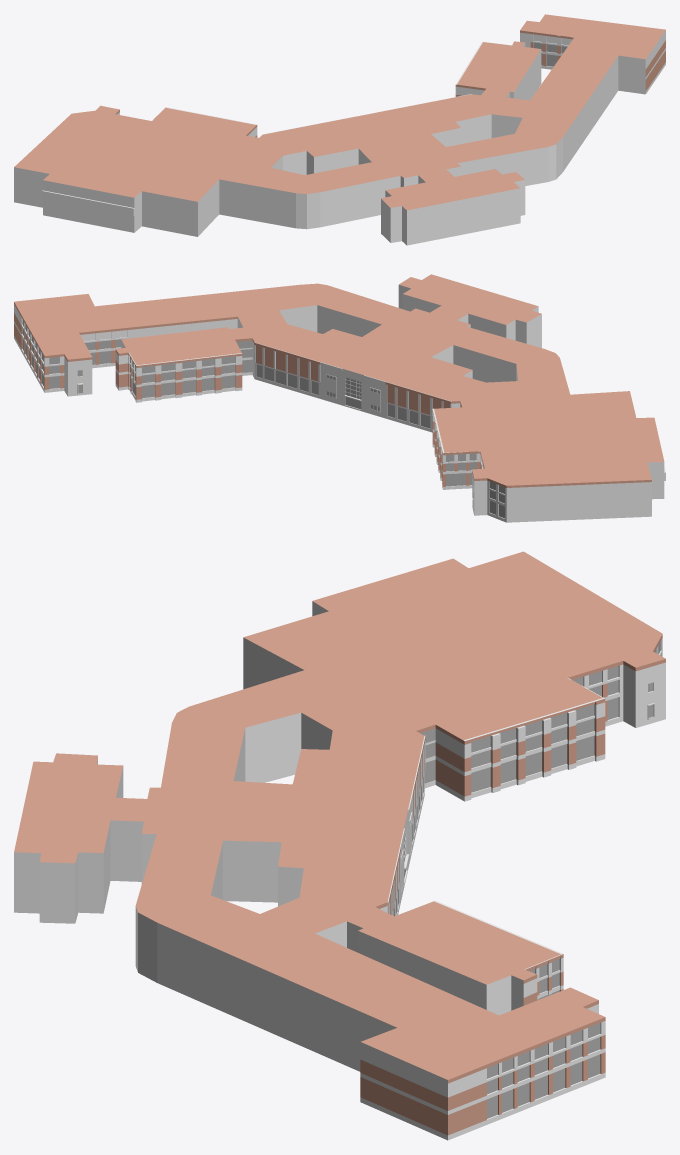
File: Queens's_building 1.fbx
3 views of the same model, one above another, from view 1: azimuth 30°, elevation 25°; view 2: azimuth 150°, elevation 25°; view 3: azimuth 270°, elevation 25° (orthographic). The views are drawn at different scales.
Parts seen in each view (by area): view 1: polySurface45; view 2: polySurface45; view 3: polySurface45.
Part boxes in pixels (bbox=[...]): polySurface45: bbox=[14, 14, 665, 245]; polySurface45: bbox=[14, 274, 665, 522]; polySurface45: bbox=[14, 551, 665, 1140].
Bounding box in the file's own units: 418 × 22.3 × 218.
